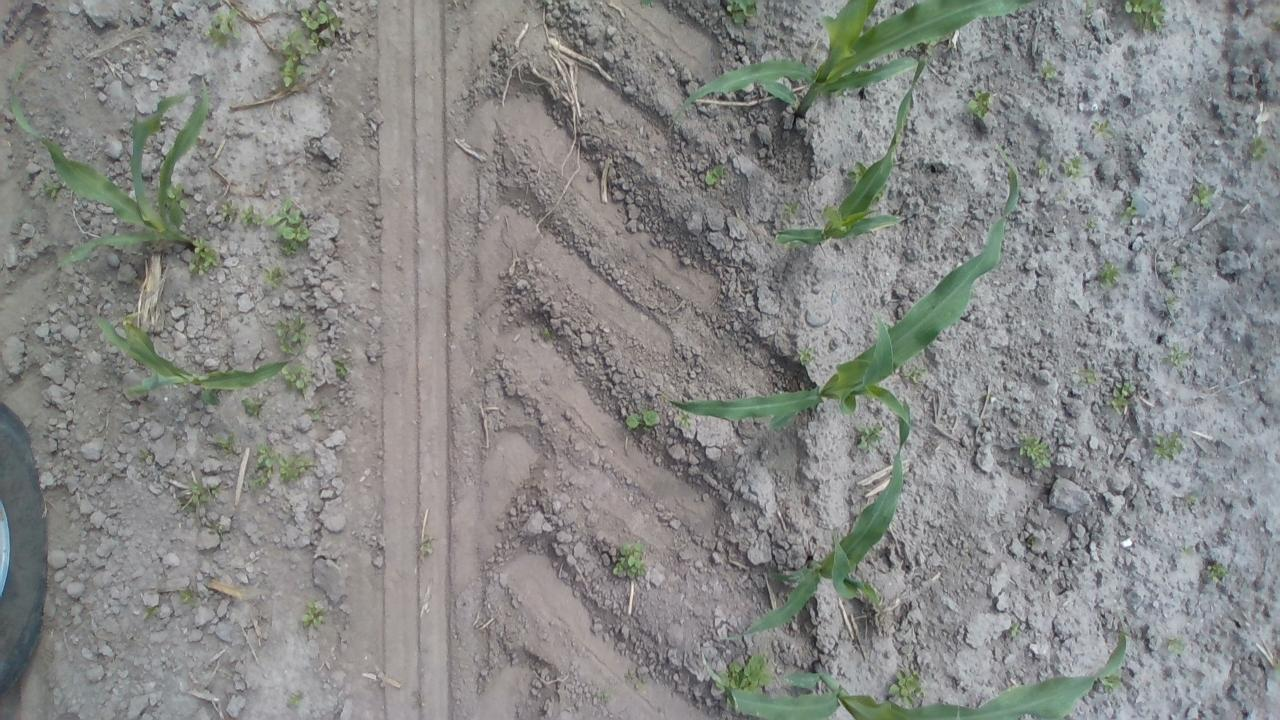Maize: (668, 158, 1022, 452), (664, 0, 1036, 123), (698, 619, 1126, 720), (8, 78, 212, 271), (719, 448, 906, 640), (770, 48, 929, 248), (92, 313, 310, 408)
Weeds: (278, 0, 342, 87), (709, 651, 775, 710), (248, 442, 316, 490), (264, 197, 312, 258), (204, 0, 242, 50), (272, 312, 314, 354), (1124, 0, 1168, 34), (888, 668, 926, 706), (612, 540, 648, 580), (1018, 432, 1055, 469), (176, 482, 218, 514), (1152, 430, 1186, 466), (625, 402, 663, 433), (189, 238, 220, 276), (1104, 380, 1136, 416), (964, 87, 994, 119), (282, 360, 312, 392), (1158, 342, 1192, 368), (724, 0, 758, 24), (853, 422, 881, 450), (165, 180, 192, 209), (1098, 258, 1123, 289), (302, 599, 328, 627), (1062, 152, 1086, 182), (214, 431, 241, 457), (240, 393, 268, 417), (845, 159, 869, 185), (1192, 184, 1216, 210), (1250, 134, 1272, 162), (40, 175, 63, 199), (1094, 118, 1118, 140), (1119, 197, 1138, 224), (704, 165, 728, 186), (1206, 562, 1230, 583), (1040, 54, 1058, 81), (264, 266, 286, 288), (902, 365, 927, 384), (1073, 367, 1098, 386), (218, 202, 240, 223), (177, 588, 200, 608), (1102, 672, 1122, 694), (240, 206, 262, 226), (798, 344, 816, 367), (334, 357, 351, 378), (782, 198, 801, 216), (871, 184, 890, 202), (1006, 622, 1024, 641), (1168, 636, 1186, 655), (8, 63, 26, 81), (1168, 262, 1185, 280), (303, 406, 321, 423), (678, 409, 694, 428), (1036, 156, 1050, 176), (1080, 0, 1096, 17), (15, 208, 32, 224), (418, 536, 432, 555), (1165, 294, 1181, 310), (142, 606, 160, 620), (206, 522, 224, 534), (592, 691, 610, 702), (1024, 534, 1038, 548), (286, 692, 302, 704), (1180, 545, 1194, 558), (1086, 216, 1098, 231), (998, 144, 1008, 160), (123, 317, 138, 327), (639, 0, 656, 8), (1184, 494, 1196, 504), (1271, 17, 1280, 29), (543, 326, 551, 338), (142, 450, 151, 459), (1272, 662, 1280, 672), (1020, 160, 1025, 166)
